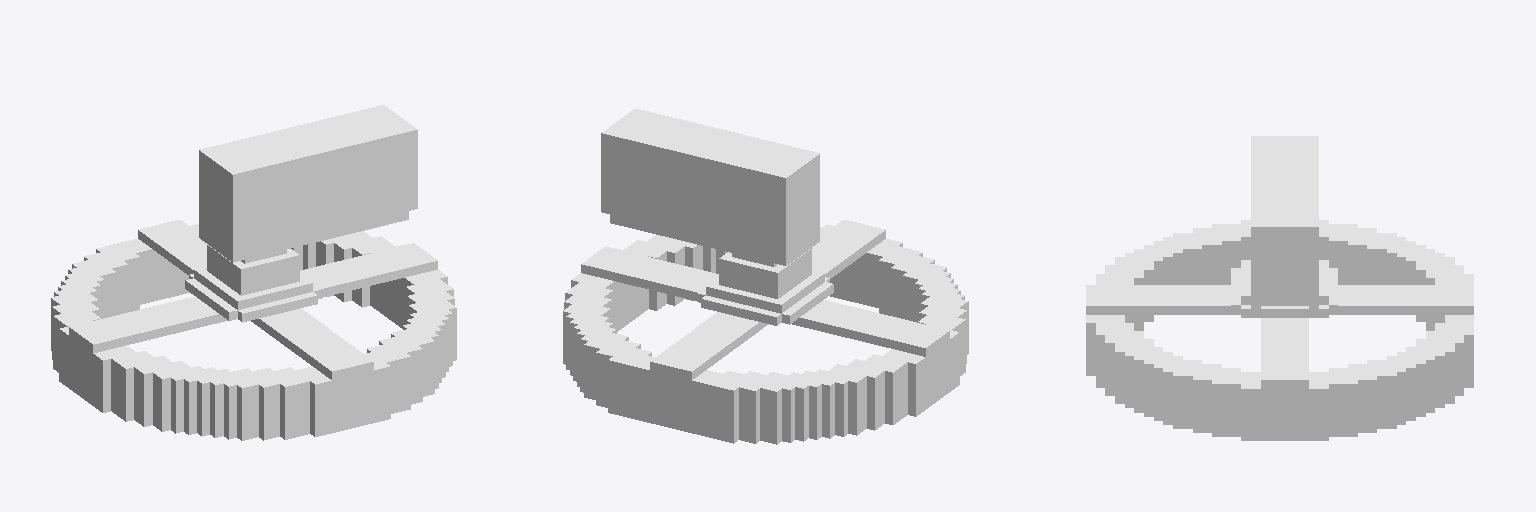
Rendered from camara2.obj.
3 views of the same model, side by side, from view 1: azimuth 30°, elevation 25°; view 2: azimuth 150°, elevation 25°; view 3: azimuth 270°, elevation 25° (orthographic).
Visible parts, largest first — view 1: camara2; view 2: camara2; view 3: camara2.
Part boxes in pixels (bbox=[...]): camara2: bbox=[51, 105, 456, 440]; camara2: bbox=[563, 108, 968, 444]; camara2: bbox=[1086, 136, 1473, 440].
Size of the model in its own units: 41 by 23 by 40.